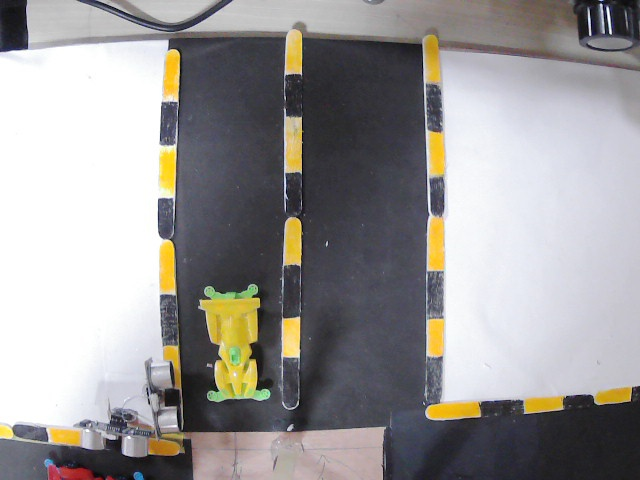black_strip: (158, 296, 180, 345), (421, 85, 443, 131), (284, 266, 304, 314), (425, 272, 445, 317), (281, 358, 298, 408), (161, 100, 178, 149), (285, 174, 304, 216), (284, 74, 303, 116), (425, 358, 443, 401), (427, 177, 447, 214), (157, 200, 174, 239), (481, 401, 525, 414), (566, 393, 596, 412), (13, 427, 44, 444)
car: (197, 285, 270, 400), (41, 457, 146, 480)
mixed_lane: (416, 37, 446, 401), (278, 29, 307, 404), (158, 43, 181, 391), (424, 388, 637, 418), (0, 423, 80, 442), (144, 436, 186, 455)
uno_breadboard: (144, 356, 183, 439), (80, 414, 146, 457)
yellow_strip: (282, 115, 306, 173), (425, 403, 482, 421), (427, 215, 445, 269), (421, 37, 441, 85), (423, 129, 444, 174), (158, 150, 177, 197), (285, 216, 304, 263), (281, 318, 304, 356), (162, 49, 179, 100), (424, 318, 445, 356), (160, 241, 175, 292), (286, 29, 302, 73), (164, 347, 181, 386), (524, 397, 565, 411), (47, 427, 80, 444), (147, 439, 182, 454), (594, 390, 632, 402), (0, 420, 13, 436)
